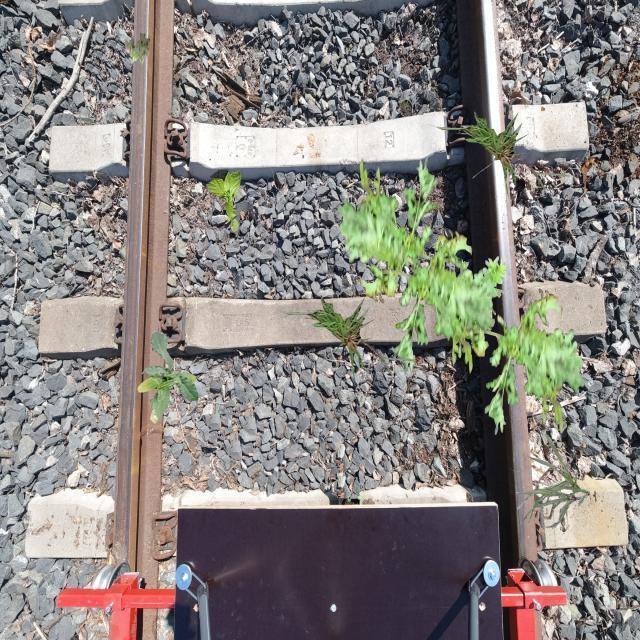Plant: (461, 289, 586, 436), (337, 157, 462, 304), (371, 229, 496, 376), (426, 110, 570, 200), (273, 295, 416, 385), (445, 251, 510, 358), (517, 434, 590, 528), (137, 331, 200, 424), (206, 169, 242, 232), (125, 33, 151, 65)
